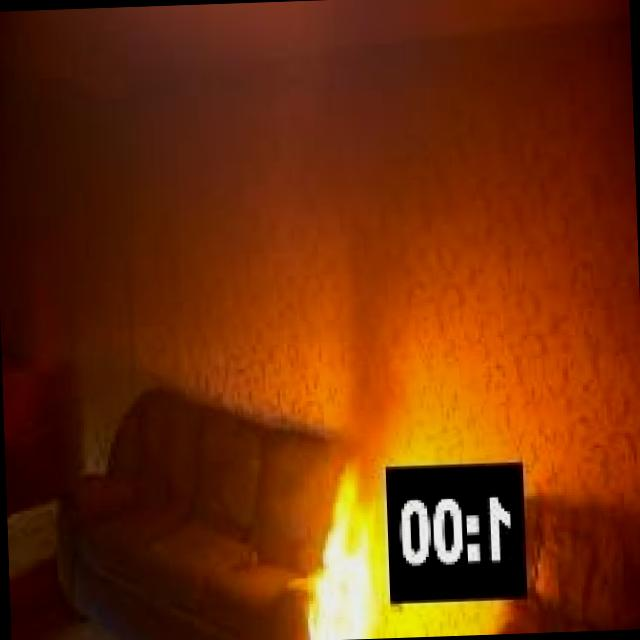fire: (312, 486, 389, 640)
